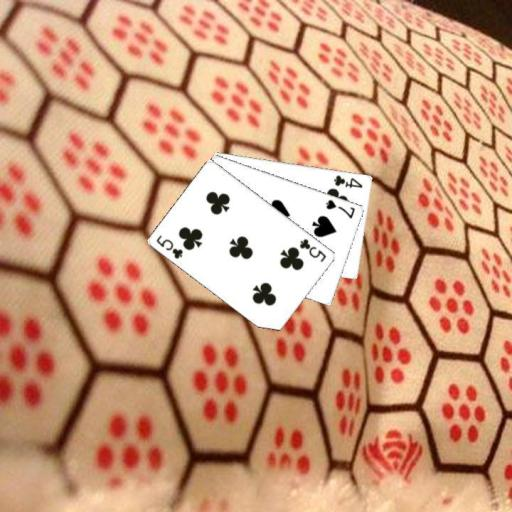4C: (331, 172, 364, 189)
5C: (296, 235, 328, 263), (153, 232, 185, 260)
7S: (323, 196, 357, 220)
